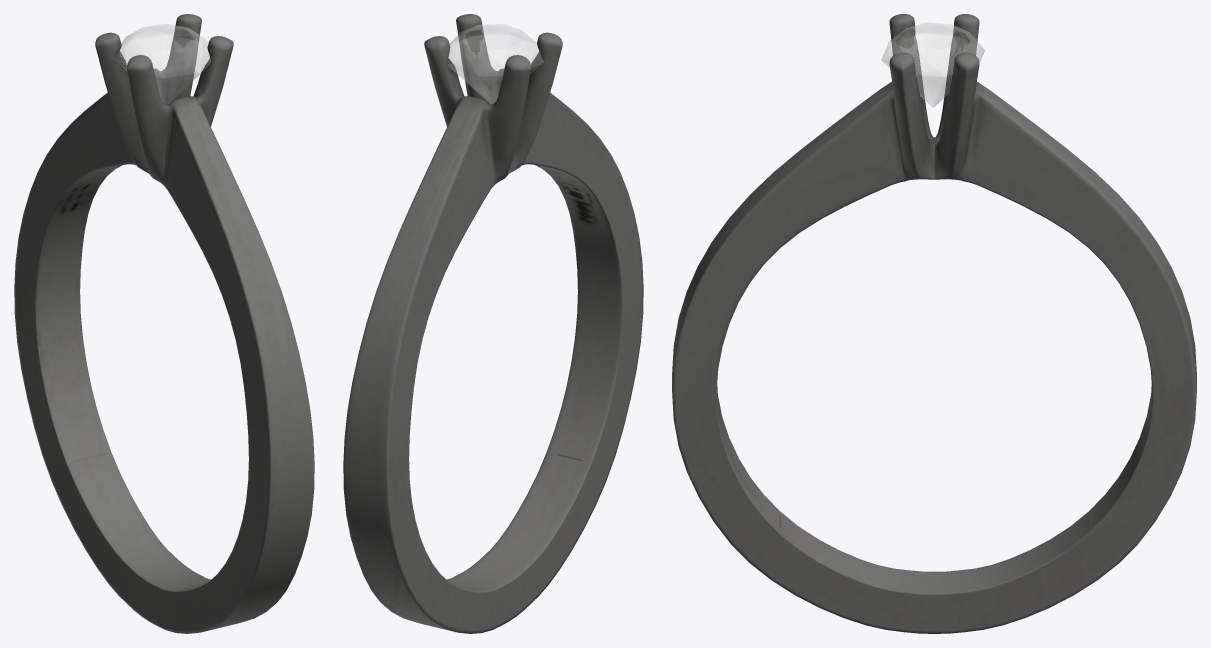
Rendered from diamond-ring.glb.
3 views of the same model, side by side, from view 1: azimuth 30°, elevation 25°; view 2: azimuth 150°, elevation 25°; view 3: azimuth 270°, elevation 25° (orthographic). The views are drawn at different scales.
Visible parts, largest first — view 1: Object_2, Object_3; view 2: Object_2, Object_3; view 3: Object_2, Object_3.
Part boxes in pixels (bbox=[...]): Object_2: bbox=[14, 14, 314, 633]; Object_3: bbox=[116, 24, 210, 104]; Object_2: bbox=[343, 14, 643, 633]; Object_3: bbox=[448, 24, 543, 104]; Object_2: bbox=[672, 14, 1196, 633]; Object_3: bbox=[881, 22, 984, 107].
Size of the model in its own units: 0.0122 by 0.0634 by 0.0513.
2 materials, 2 textured.
